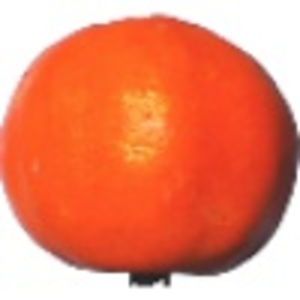tangerina: (2, 12, 300, 287)
